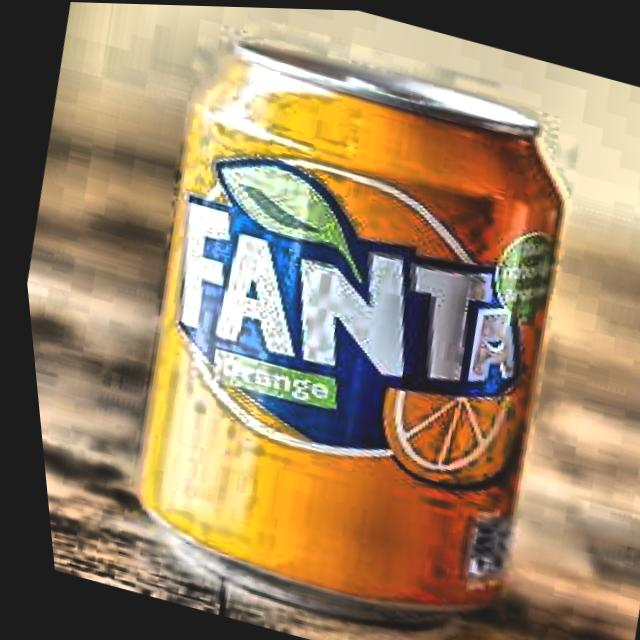Cans: (39, 1, 640, 640)
